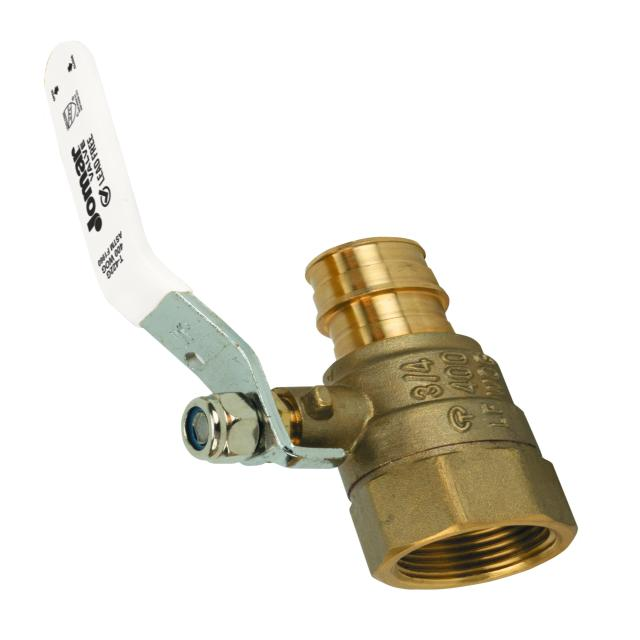opened_valve: (43, 37, 581, 591)
